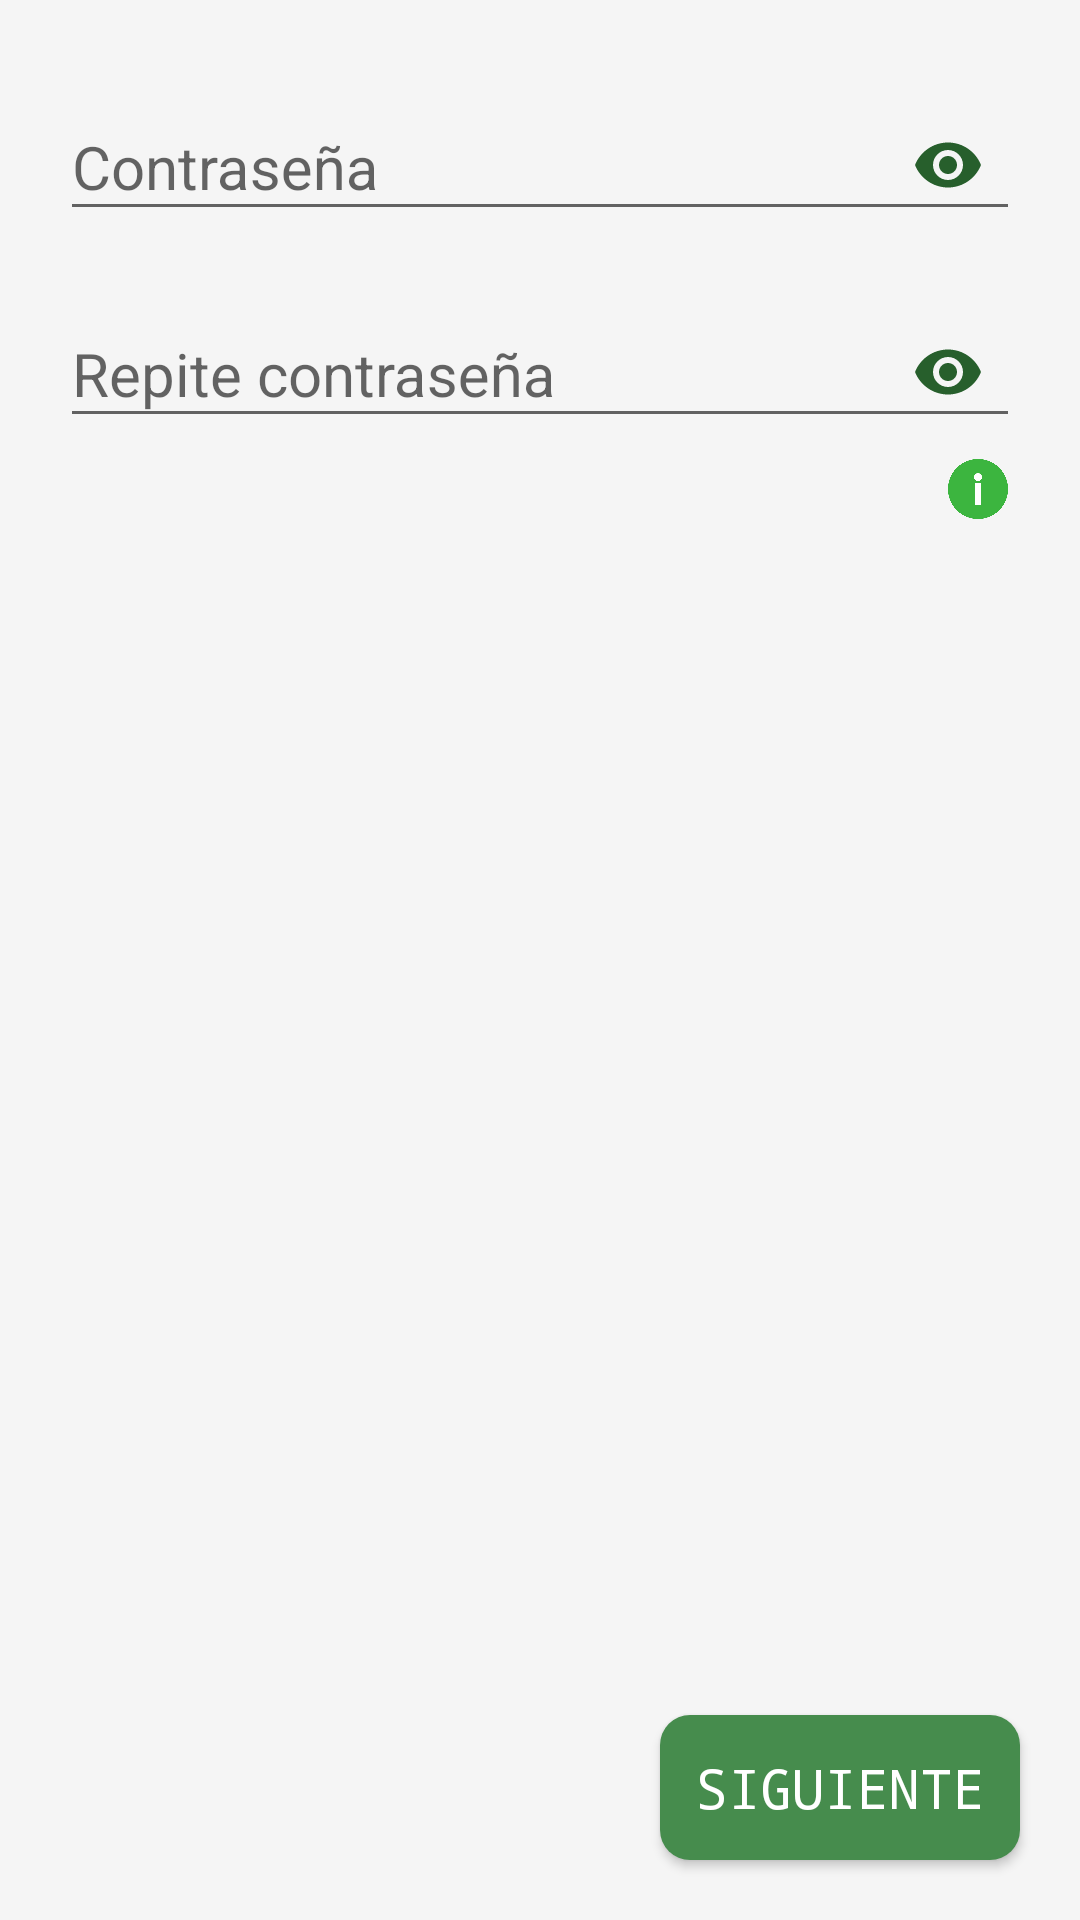

Icon bounding boxes for this 1080 x 1920 phone screenshot, format (left=x1, top=y1, right=x2, bottom=y2):
information: (left=948, top=459, right=1008, bottom=519)
